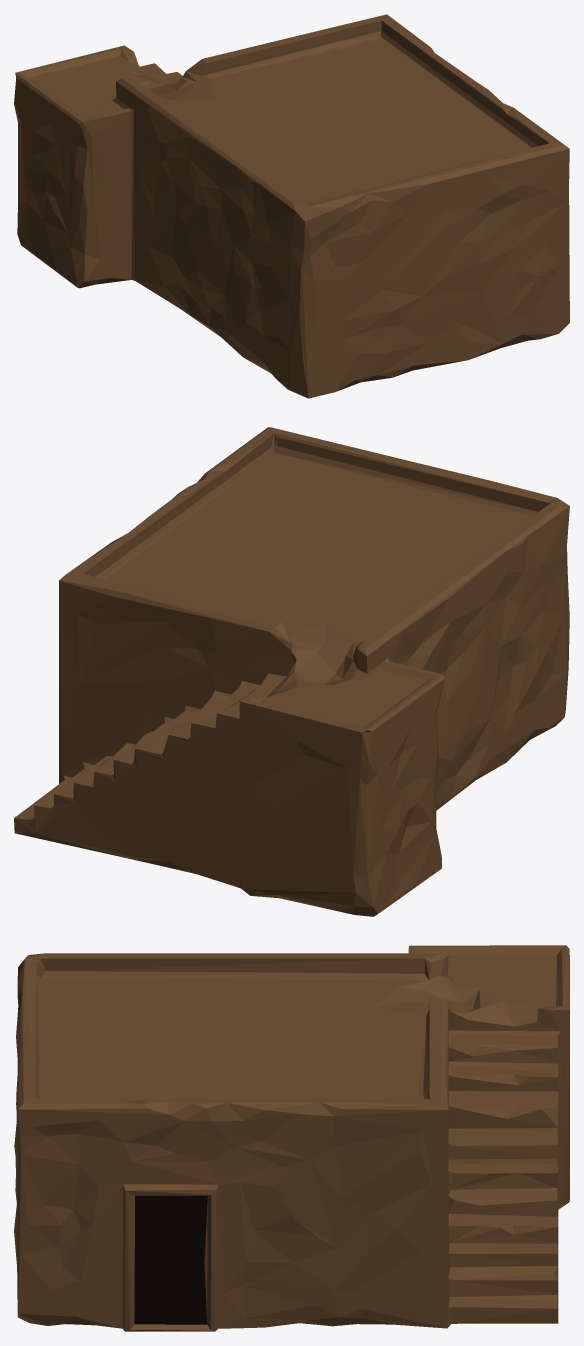
Rendered from SM_small_house_05.fbx.
3 renders of one model, top to bottom at view 1: azimuth 30°, elevation 25°; view 2: azimuth 150°, elevation 25°; view 3: azimuth 270°, elevation 25°, orthographic. The views are drawn at different scales.
Visible parts, largest first — view 1: small_house_05; view 2: small_house_05; view 3: small_house_05.
Part boxes in pixels (<box>): small_house_05: <box>14,14,569,398</box>; small_house_05: <box>14,427,569,916</box>; small_house_05: <box>14,945,569,1331</box>.
Size of the model in its own units: 631 by 346 by 782.
